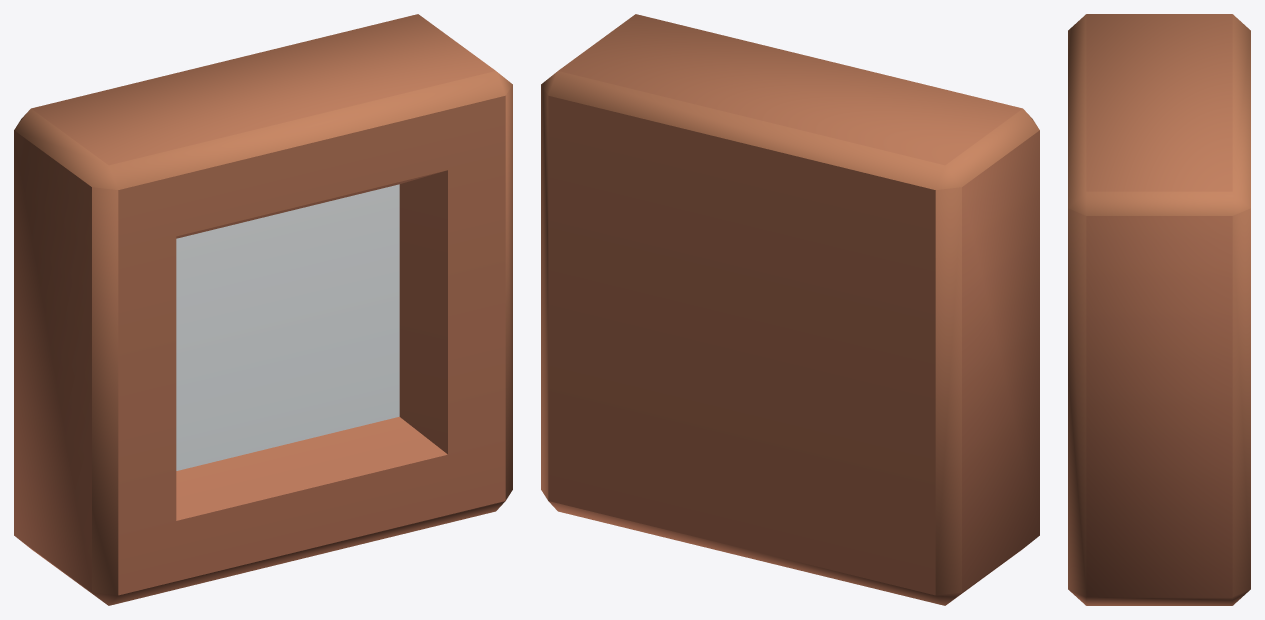
3 renders of one model, left to right at view 1: azimuth 30°, elevation 25°; view 2: azimuth 150°, elevation 25°; view 3: azimuth 270°, elevation 25°, orthographic. The views are drawn at different scales.
Visible parts, largest first — view 1: pictureframe_small_C; view 2: pictureframe_small_C; view 3: pictureframe_small_C.
Boxes of the visible parts, x1,y1,x2,y2 form: pictureframe_small_C: (14, 14, 512, 605); pictureframe_small_C: (541, 14, 1039, 605); pictureframe_small_C: (1068, 14, 1250, 605).
Bounding box in the file's own units: 0.5 × 0.5 × 0.2.
Materials: 1 (1 with a texture image).
